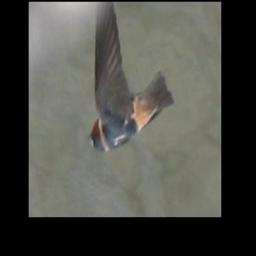Swallow: (87, 3, 175, 159)
